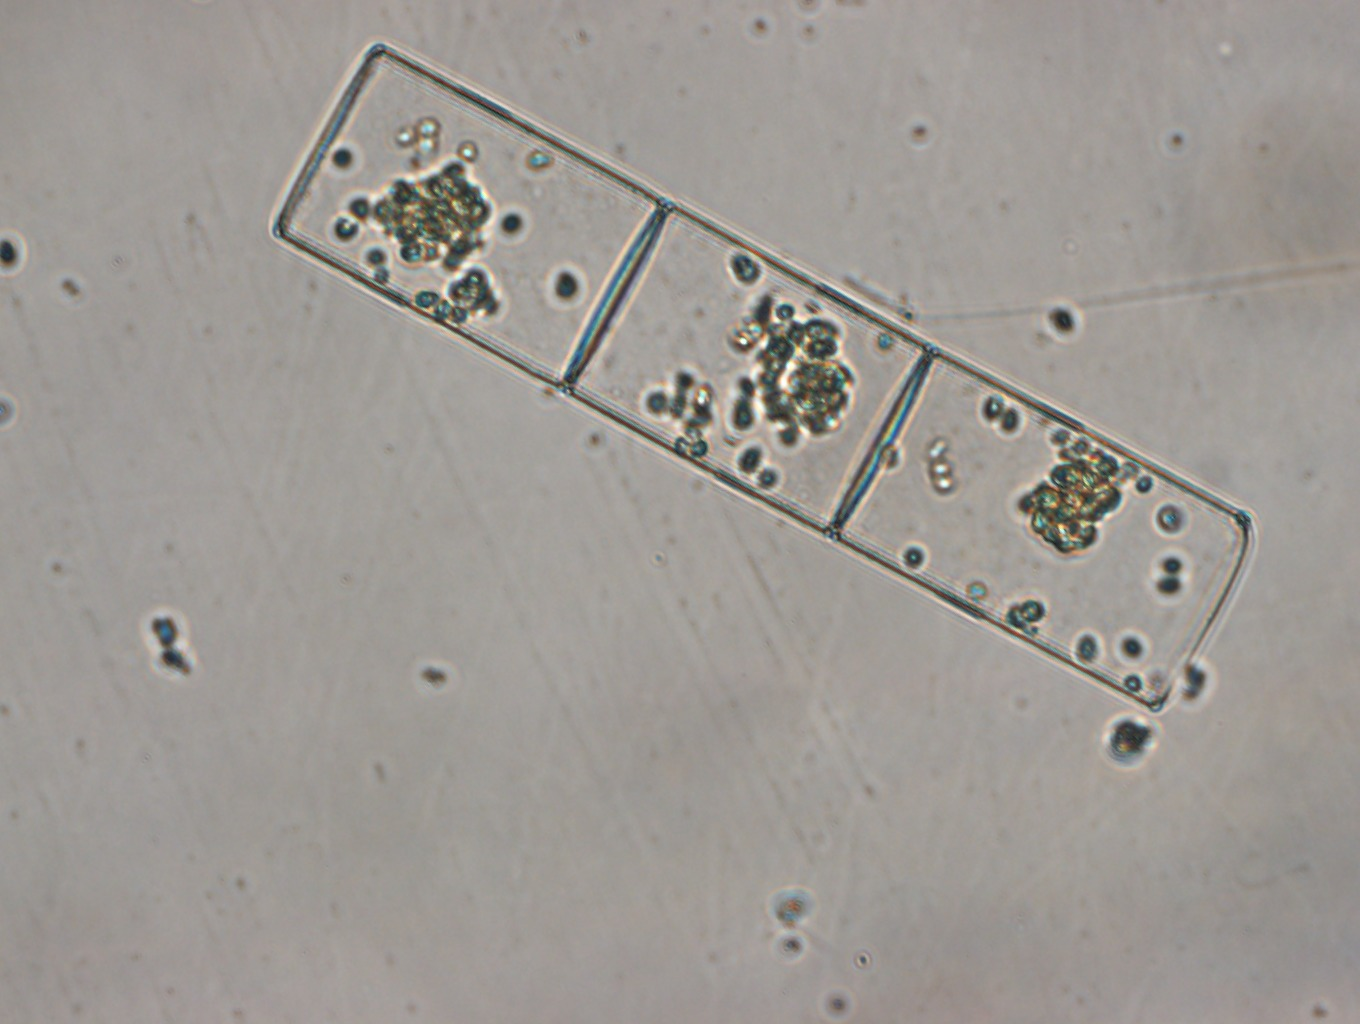guinardia flaccida: (264, 44, 1256, 715)
